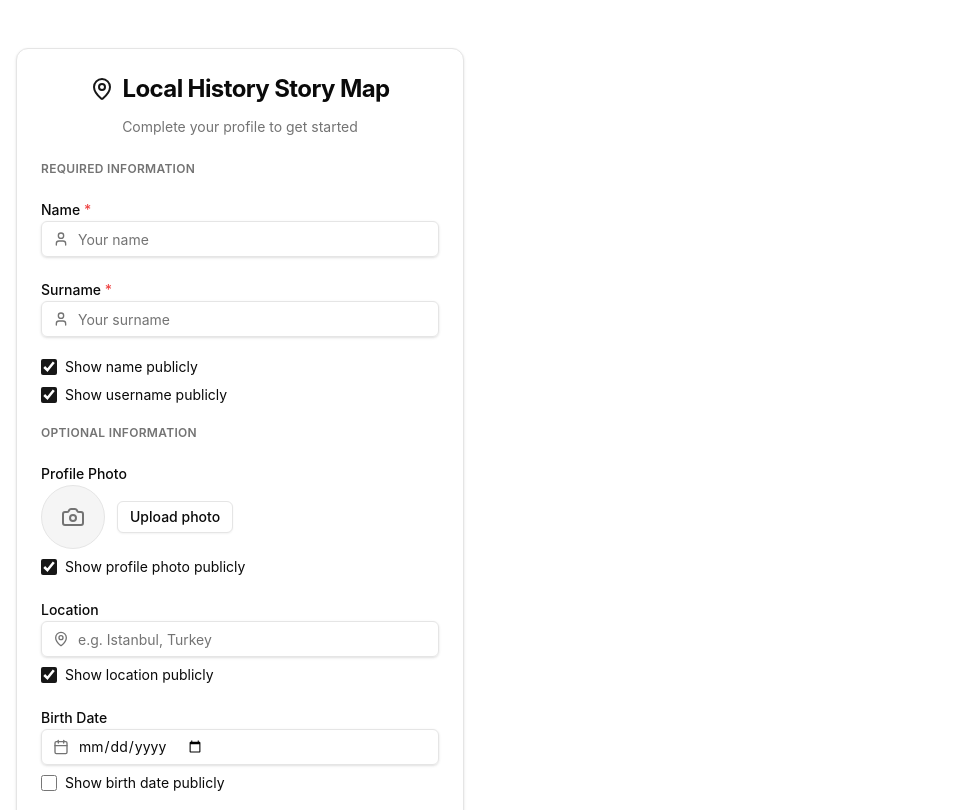
Test: ProfileCompletionPage › shows success toast on profile completion
The image size is (960, 810).
In the field labelled "Name *": {"x": 240, "y": 239} [41,221,439,257], type "John"
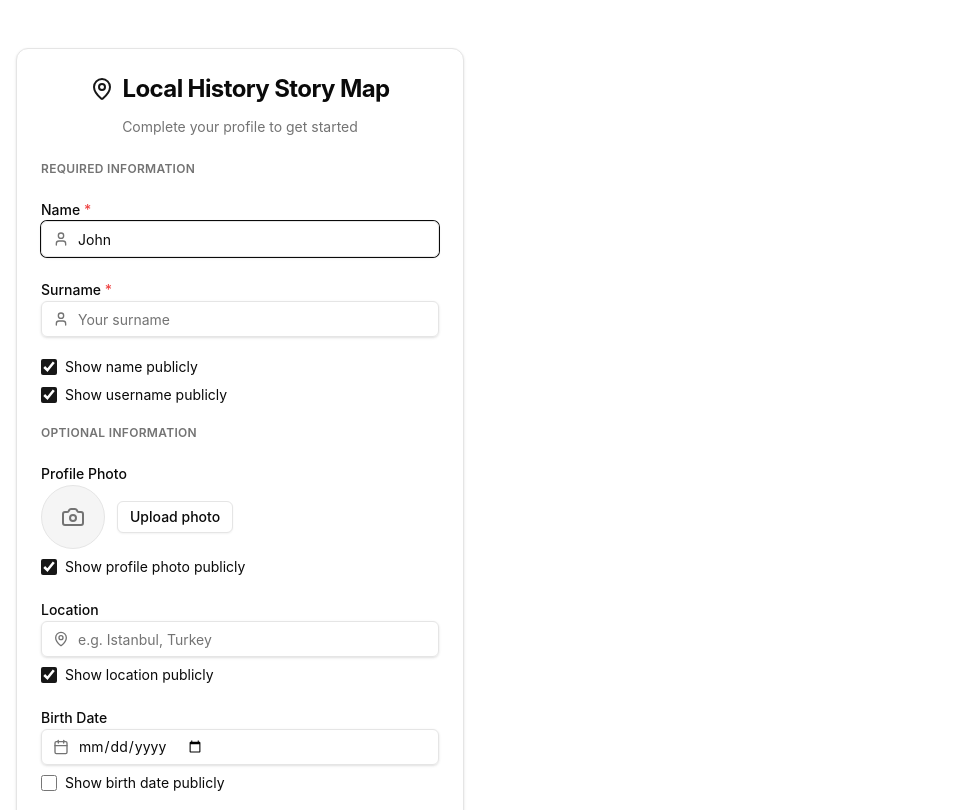
In the field labelled "Surname *": {"x": 240, "y": 319} [41,301,439,337], type "Smith"
(page scrolled)
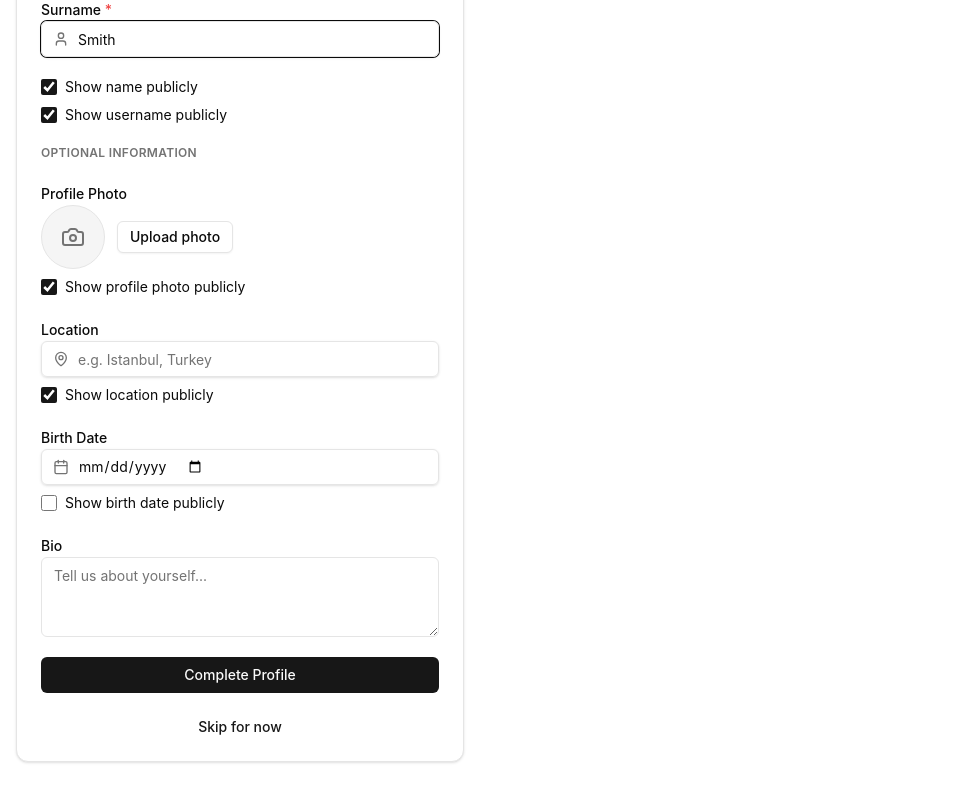
Click the button "Complete Profile": {"x": 240, "y": 675} [41,657,439,693]
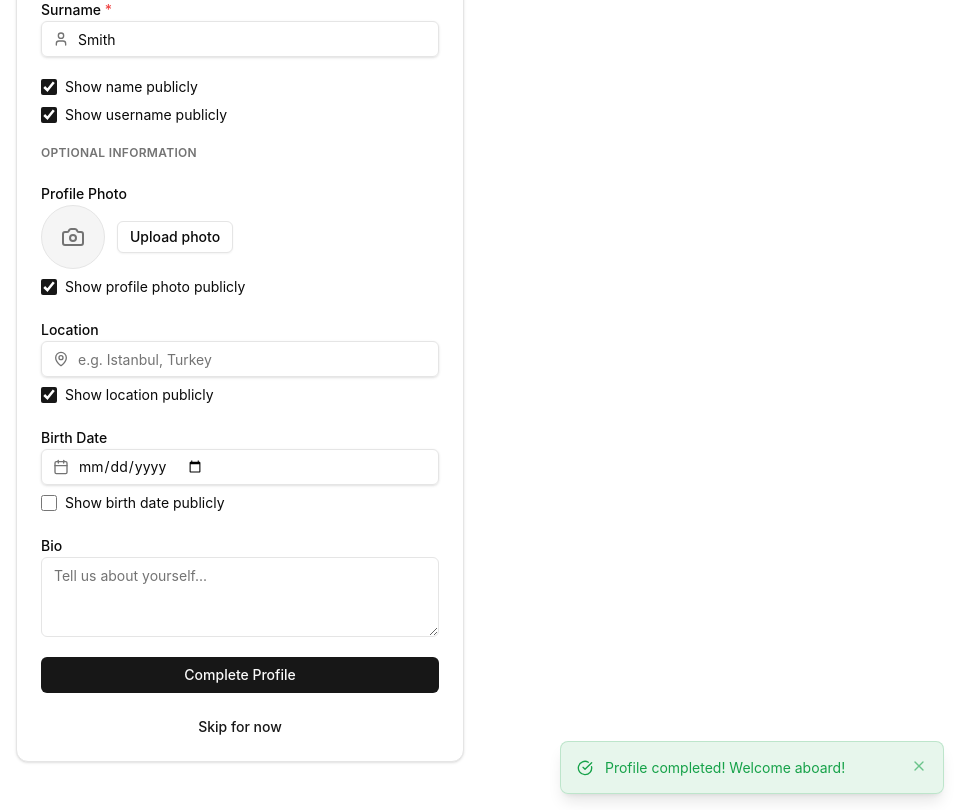
Check: the text "Profile completed! Welcome aboard!" is shown, box [605,759,845,776]
